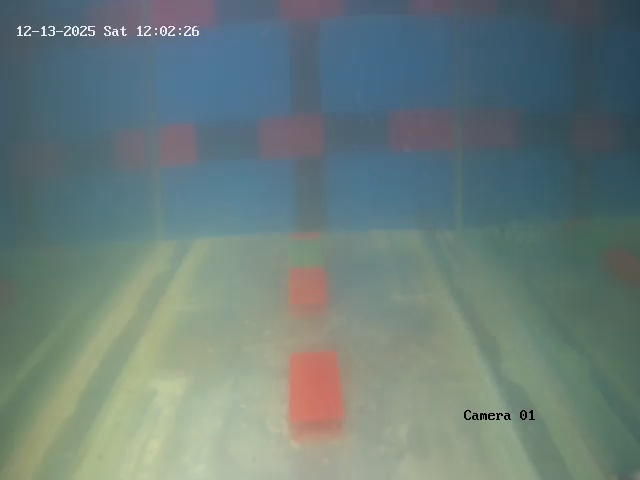fish: (397, 205, 449, 257)
